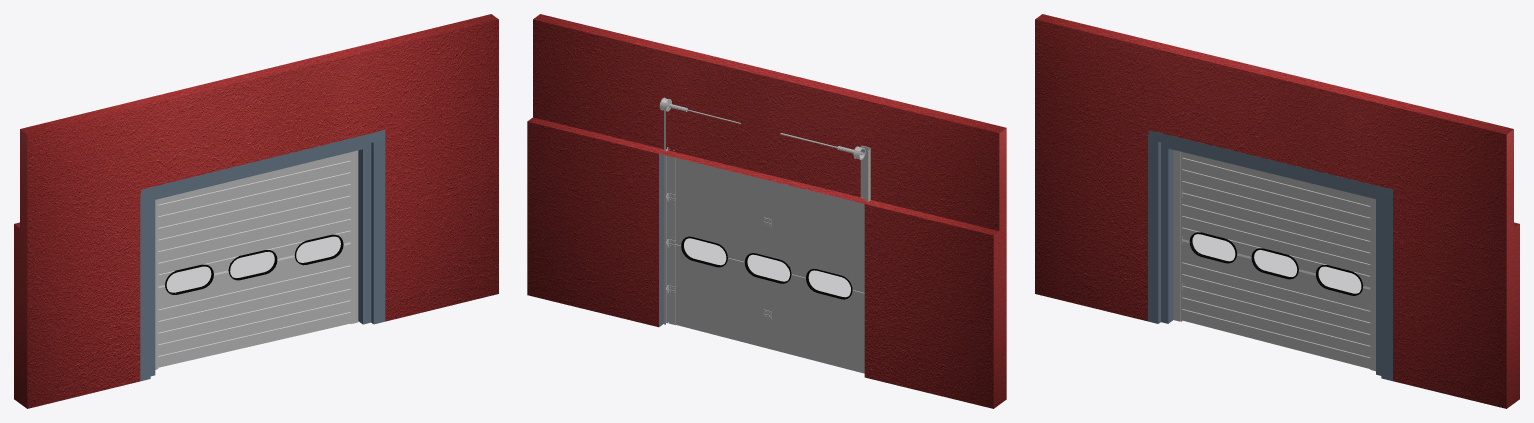
Rendered from industrial overhead door.fbx.
3 views of the same model, side by side, from view 1: azimuth 30°, elevation 25°; view 2: azimuth 150°, elevation 25°; view 3: azimuth 330°, elevation 25° (orthographic).
Visible parts, largest first — view 1: pCube7, Garage_doors_N240118:______3, pPlane1, pPlane2; view 2: pCube7, Garage_doors_N240118:______3, pPlane1, pPlane2; view 3: pCube7, Garage_doors_N240118:______3, pPlane1, pPlane2.
Boxes of the visible parts, x1,y1,x2,y2 form: pCube7: (14, 14, 498, 408); Garage_doors_N240118:______3: (155, 150, 358, 369); pPlane1: (167, 252, 274, 292); pPlane2: (296, 237, 340, 262); pCube7: (527, 14, 1006, 408); Garage_doors_N240118:______3: (659, 97, 870, 373); pPlane1: (747, 255, 850, 296); pPlane2: (683, 239, 725, 265); pCube7: (1035, 14, 1519, 408); Garage_doors_N240118:______3: (1173, 150, 1375, 371); pPlane1: (1192, 234, 1296, 276); pPlane2: (1318, 267, 1360, 293).
Bounding box in the file's own units: 5.54 × 3.08 × 0.353.
Materials: 6 (1 with a texture image).
